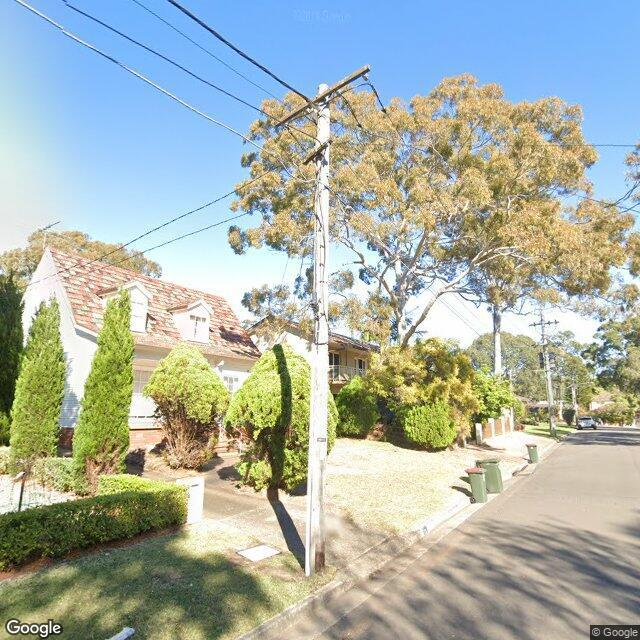crossarm: (270, 64, 372, 130), (302, 137, 334, 165), (529, 321, 559, 327)
timber-pole: (307, 79, 328, 575), (541, 303, 557, 438)
